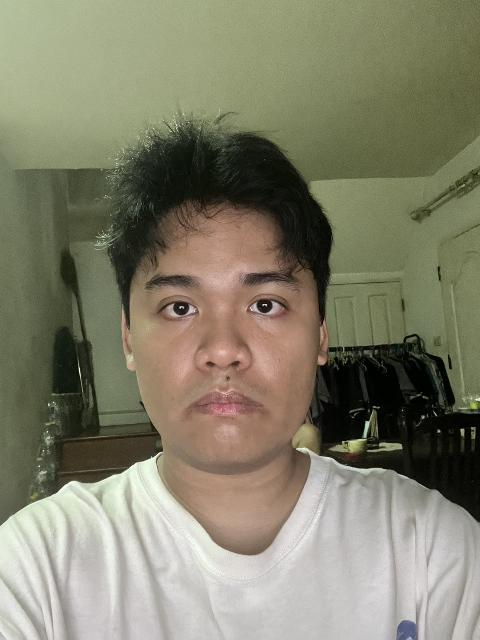fokus: (118, 153, 330, 470)
